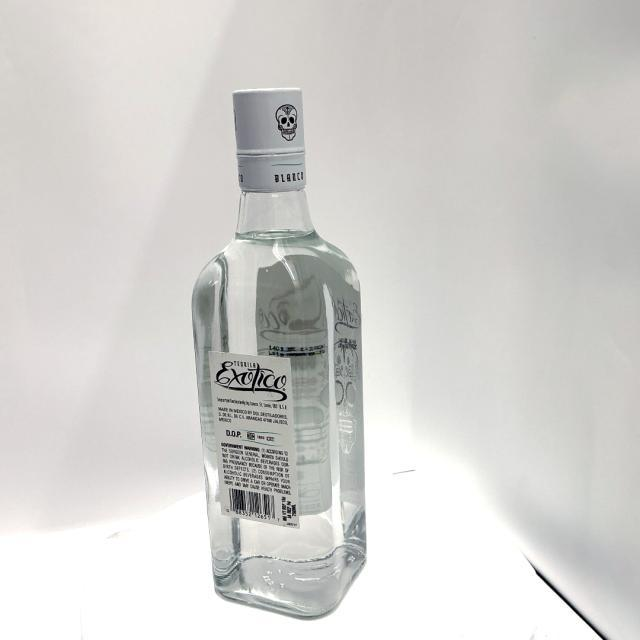EXOTICO-BLANCO-TEQUILA-750ML: (188, 86, 369, 632)
